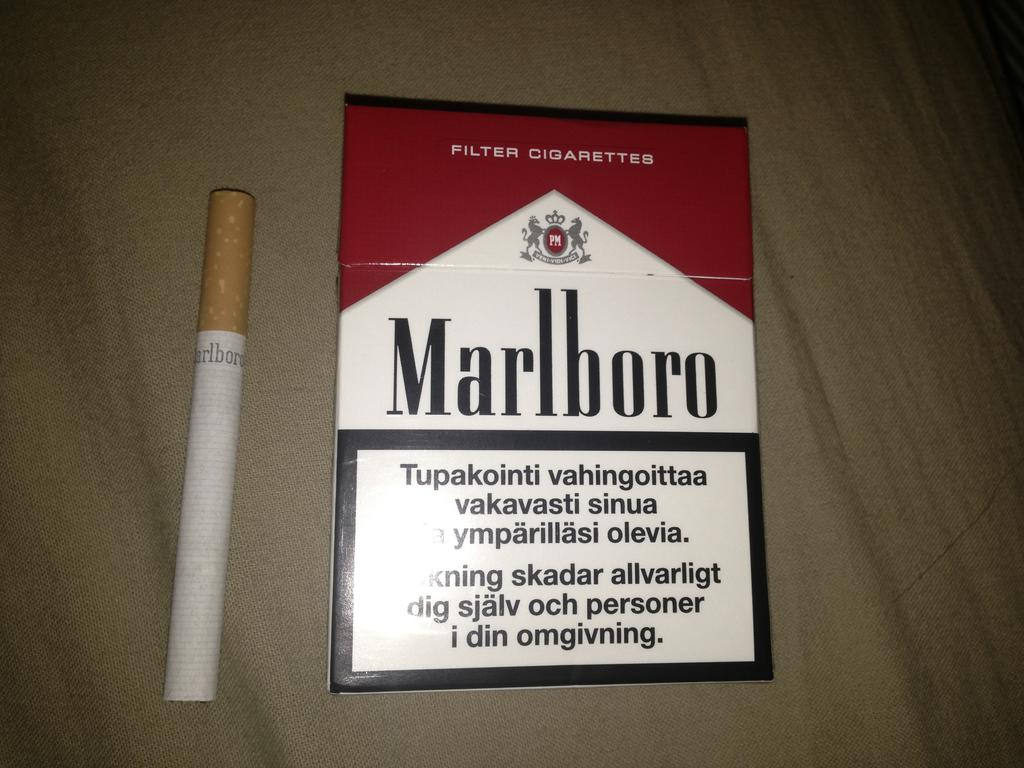marlboro_red: (338, 109, 760, 685)
